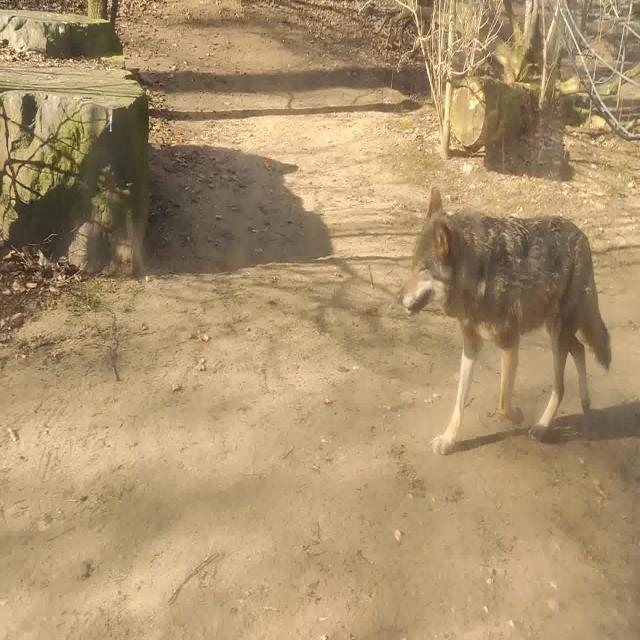dog: (397, 185, 611, 456)
